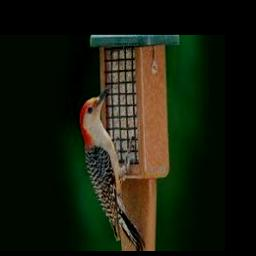Woodpecker: (80, 84, 145, 248)
